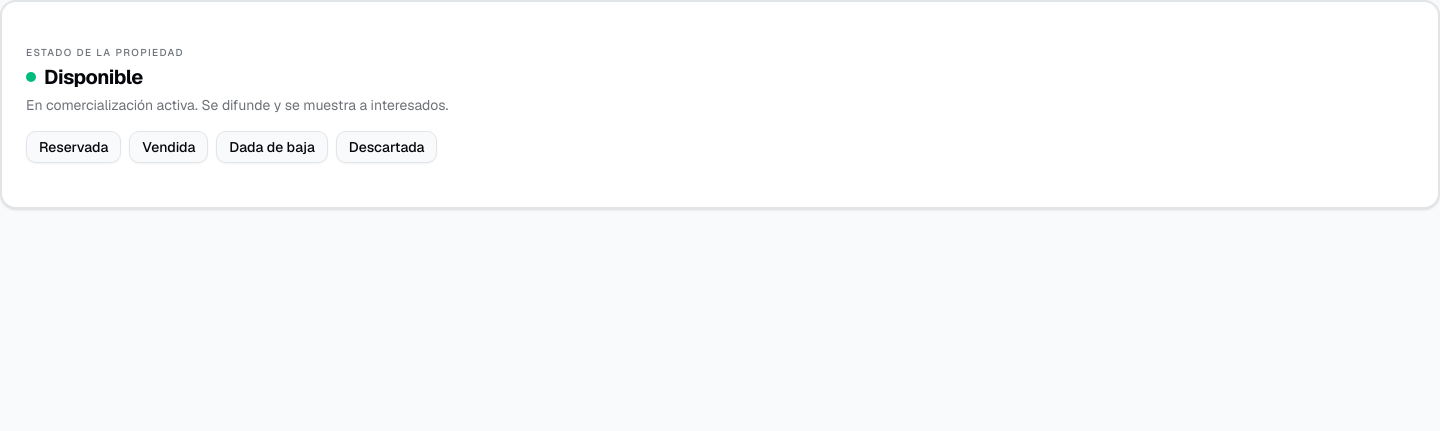
Test: PropertyCommercialStatusCard › al elegir vendida pide precio real y fecha
Click the button "Vendida": [169, 147] box [129,131,208,163]
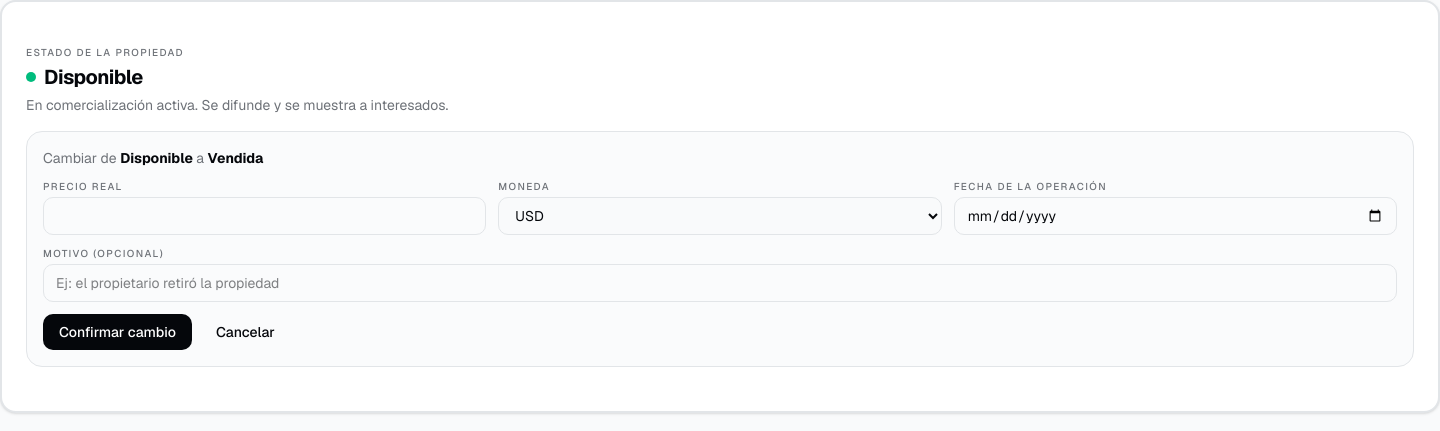
Now the date field labelled "Fecha de la operación" is shown, box [954,197,1397,235]
